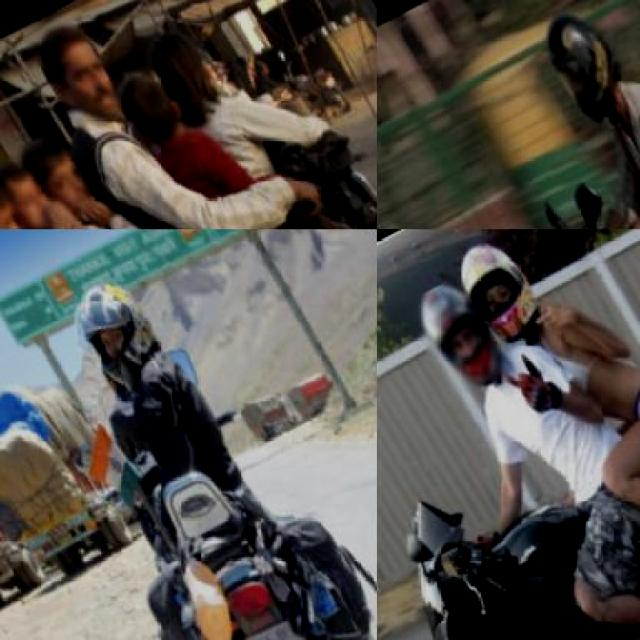With Helmet: (516, 0, 638, 134), (50, 268, 172, 394), (396, 272, 515, 400), (440, 229, 560, 354)
Without Helmet: (19, 10, 130, 136), (6, 126, 102, 228), (136, 19, 230, 121), (101, 56, 193, 156), (0, 149, 60, 228), (0, 152, 40, 228)
